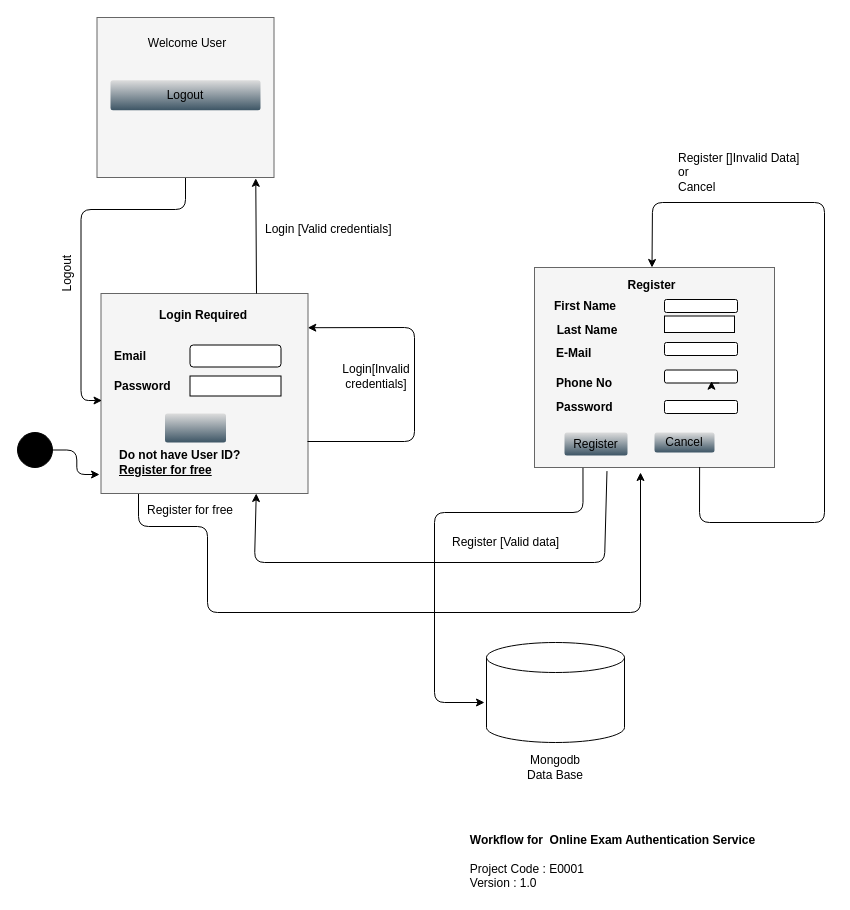
Some shapes in this 850 by 910 pixel diagram are drawn without their labels. The centre of each missing label's shape, as x and y in pixels:
"Login" belongs at pixel 195 427.
"START" belongs at pixel 34 450.
